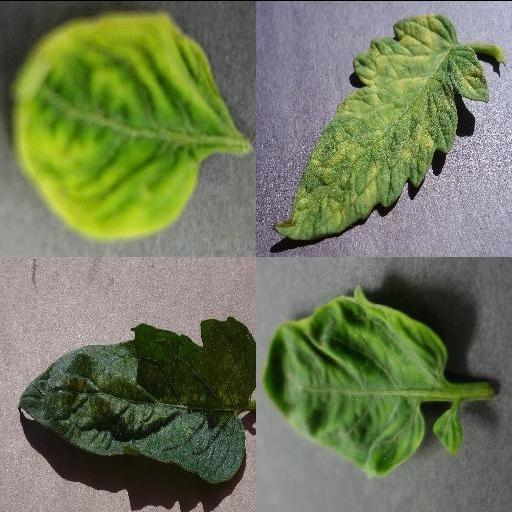Leaf Mold: (272, 13, 488, 238)
Spider Mites: (17, 317, 256, 484)
Yellow Leaf Curl Virus: (12, 8, 236, 238), (262, 284, 450, 474)
